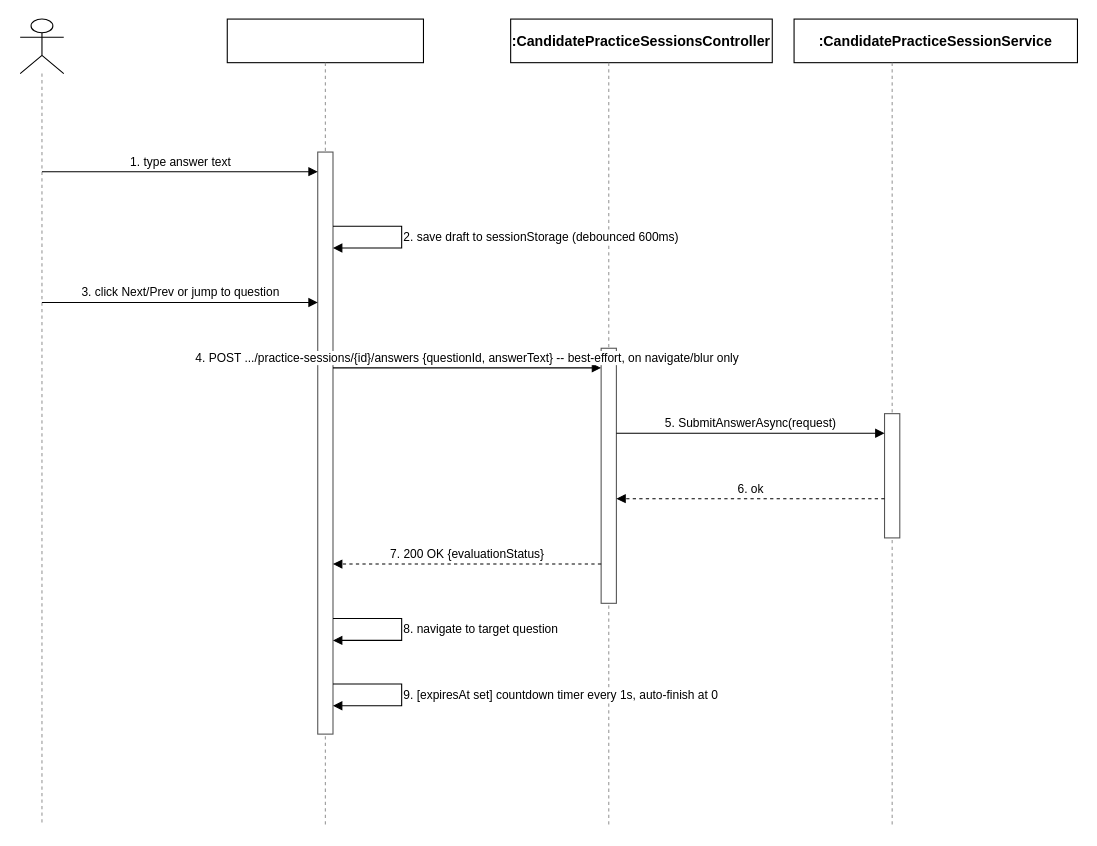
Image size: 1097x846. Some labels were removed from this diagram. Here are the shapes that lost their labels. From the top down, the centre of each, then its label:
the point at 41,46: Job Seeker
the point at 324,40: :PracticeSessionClient
